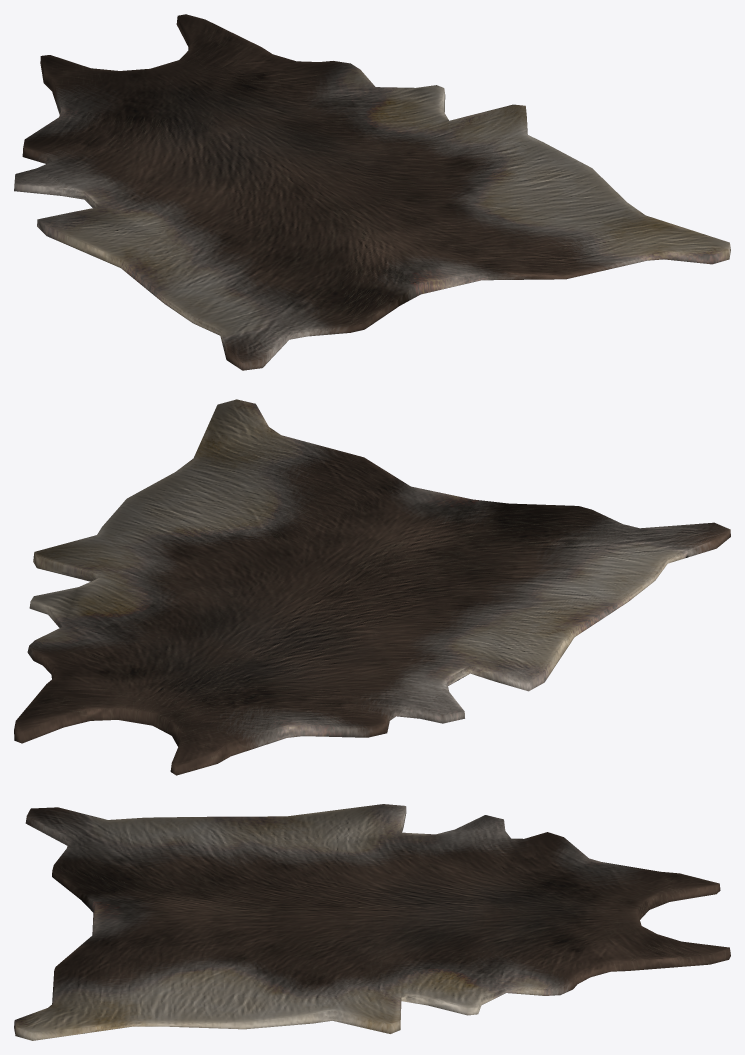
3 renders of one model, top to bottom at view 1: azimuth 30°, elevation 25°; view 2: azimuth 150°, elevation 25°; view 3: azimuth 270°, elevation 25°, orthographic. The views are drawn at different scales.
Parts seen in each view (by area): view 1: trn_AnimalRug; view 2: trn_AnimalRug; view 3: trn_AnimalRug.
Boxes of the visible parts, x1=… form: trn_AnimalRug: x1=14, y1=14, x2=730, y2=370; trn_AnimalRug: x1=14, y1=399, x2=730, y2=775; trn_AnimalRug: x1=14, y1=804, x2=730, y2=1040.
Bounding box in the file's own units: 127 × 2.69 × 167.
Materials: 1 (1 with a texture image).
